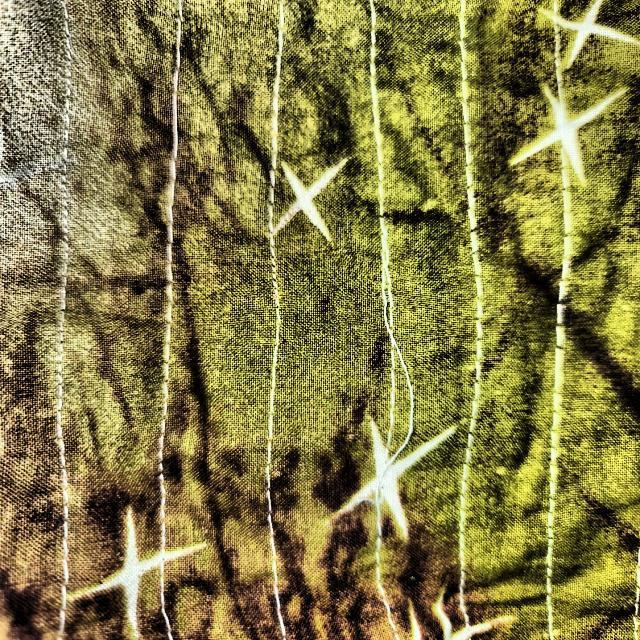gray stitch: (358, 267, 446, 490)
